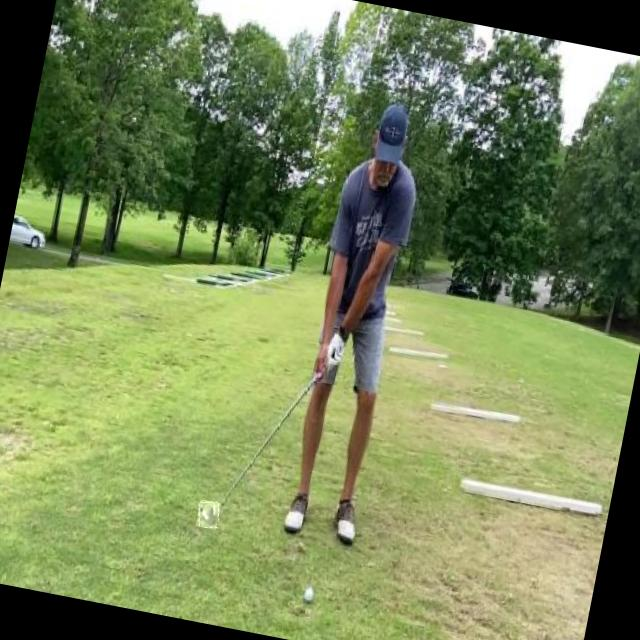club head: (196, 500, 222, 530)
